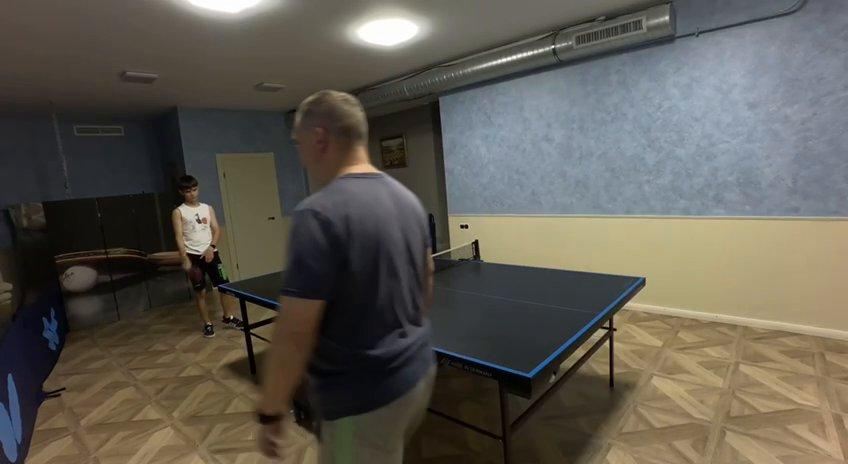Player1: (172, 175, 227, 300)
Player2: (256, 90, 435, 463)
